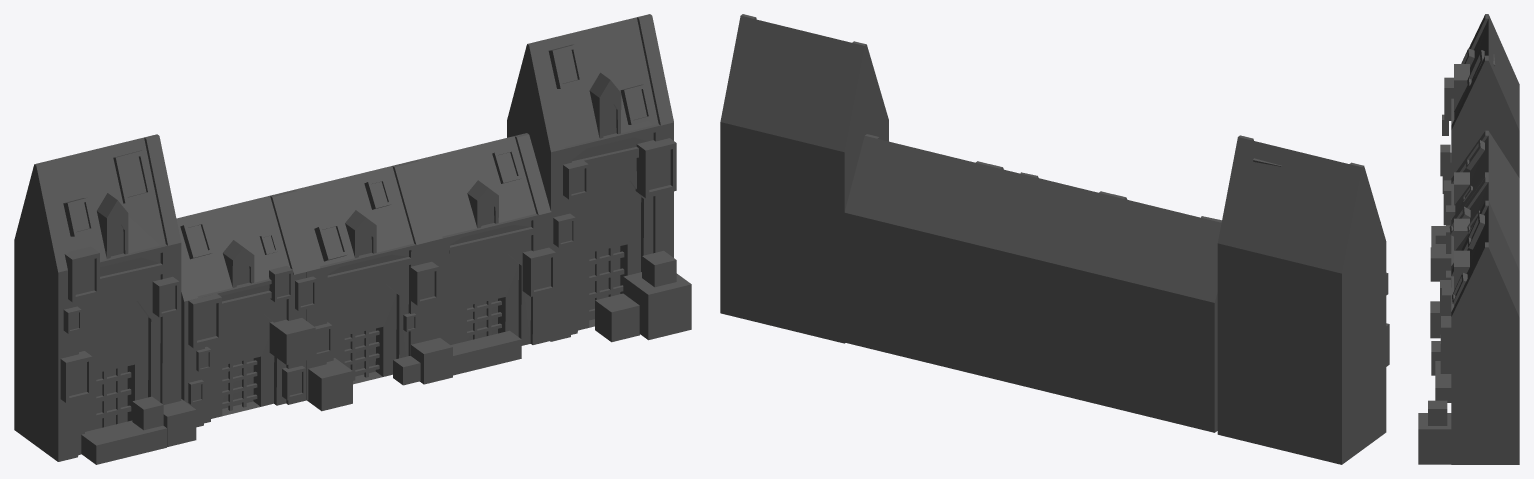
File: bossfiled.obj
3 renders of one model, left to right at view 1: azimuth 30°, elevation 25°; view 2: azimuth 150°, elevation 25°; view 3: azimuth 270°, elevation 25°, orthographic. The views are drawn at different scales.
Parts seen in each view (by area): view 1: Cube.025_Cube.028; view 2: Cube.025_Cube.028; view 3: Cube.025_Cube.028.
Part boxes in pixels (<box>): Cube.025_Cube.028: <box>14,14,691,464</box>; Cube.025_Cube.028: <box>720,14,1389,464</box>; Cube.025_Cube.028: <box>1418,14,1519,464</box>.
Bounding box in the file's own units: 29.36 × 12.9 × 5.39.
1 material, 1 textured.
